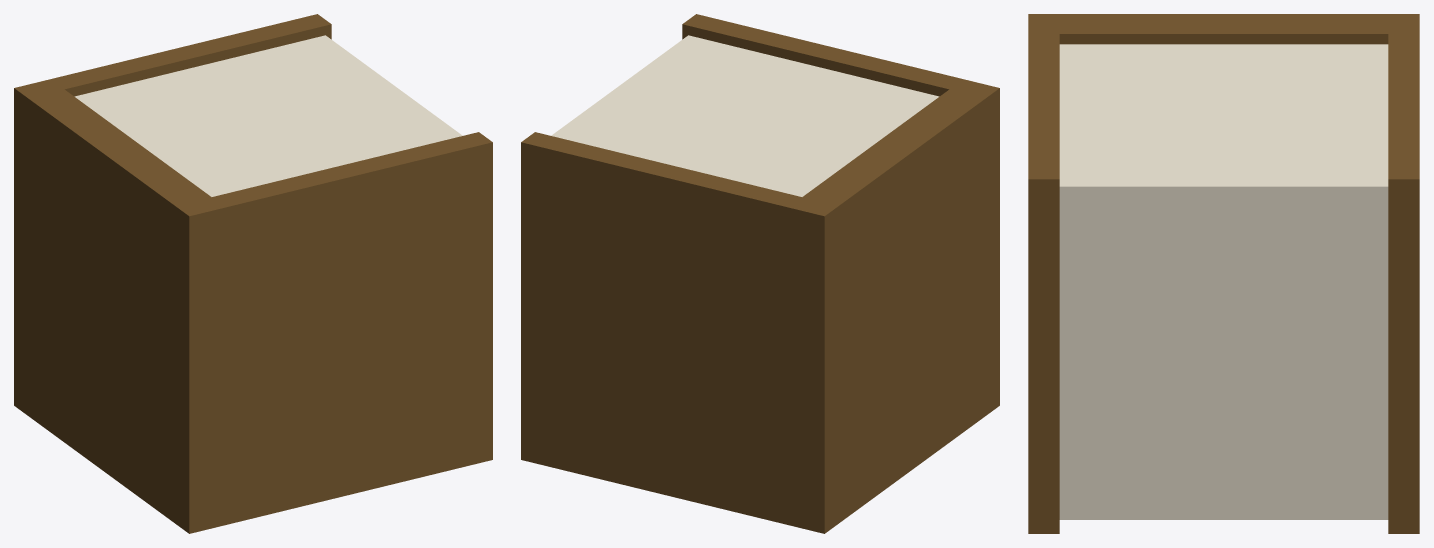
Rendered from book-3.glb.
3 renders of one model, left to right at view 1: azimuth 30°, elevation 25°; view 2: azimuth 150°, elevation 25°; view 3: azimuth 270°, elevation 25°, orthographic. The views are drawn at different scales.
Size of the model in its own units: 1 by 1 by 1.
